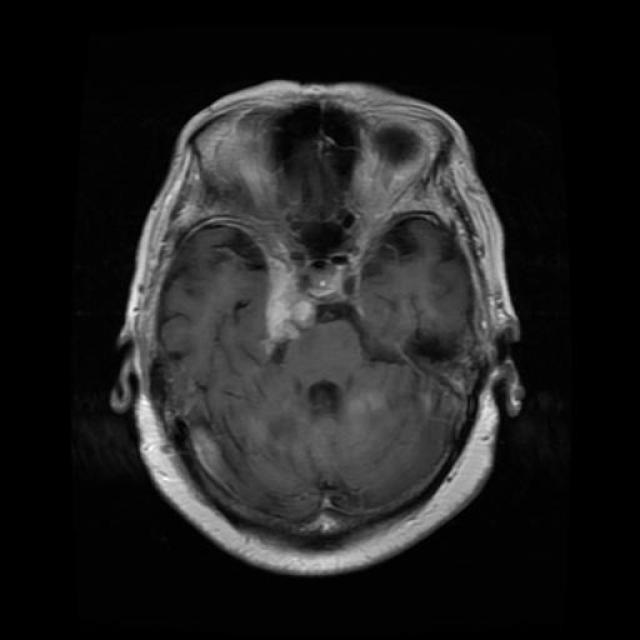Meningioma: (261, 242, 316, 355)
